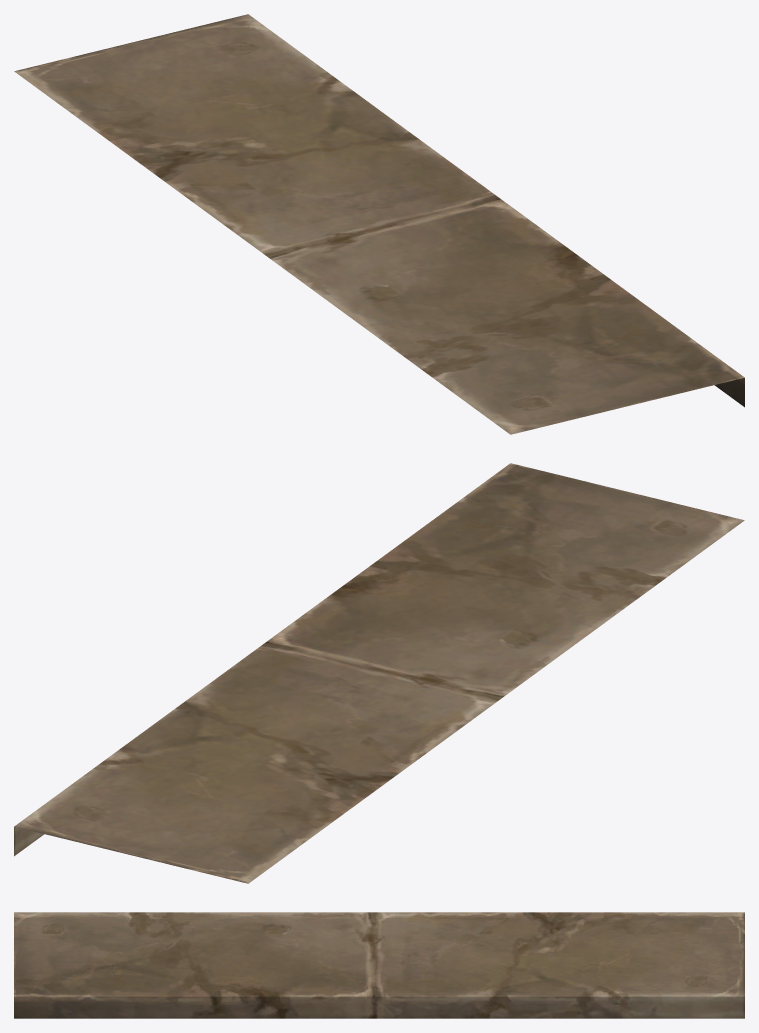
File: blsd4_baobian.FBX
3 renders of one model, top to bottom at view 1: azimuth 30°, elevation 25°; view 2: azimuth 150°, elevation 25°; view 3: azimuth 270°, elevation 25°, orthographic. The views are drawn at different scales.
Parts seen in each view (by area): view 1: blsd4_baobian_001; view 2: blsd4_baobian_001; view 3: blsd4_baobian_001.
Part boxes in pixels (<box>): blsd4_baobian_001: <box>14,14,744,434</box>; blsd4_baobian_001: <box>14,463,744,883</box>; blsd4_baobian_001: <box>14,912,744,1018</box>.
Size of the model in its own units: 167 by 20.35 by 613.
